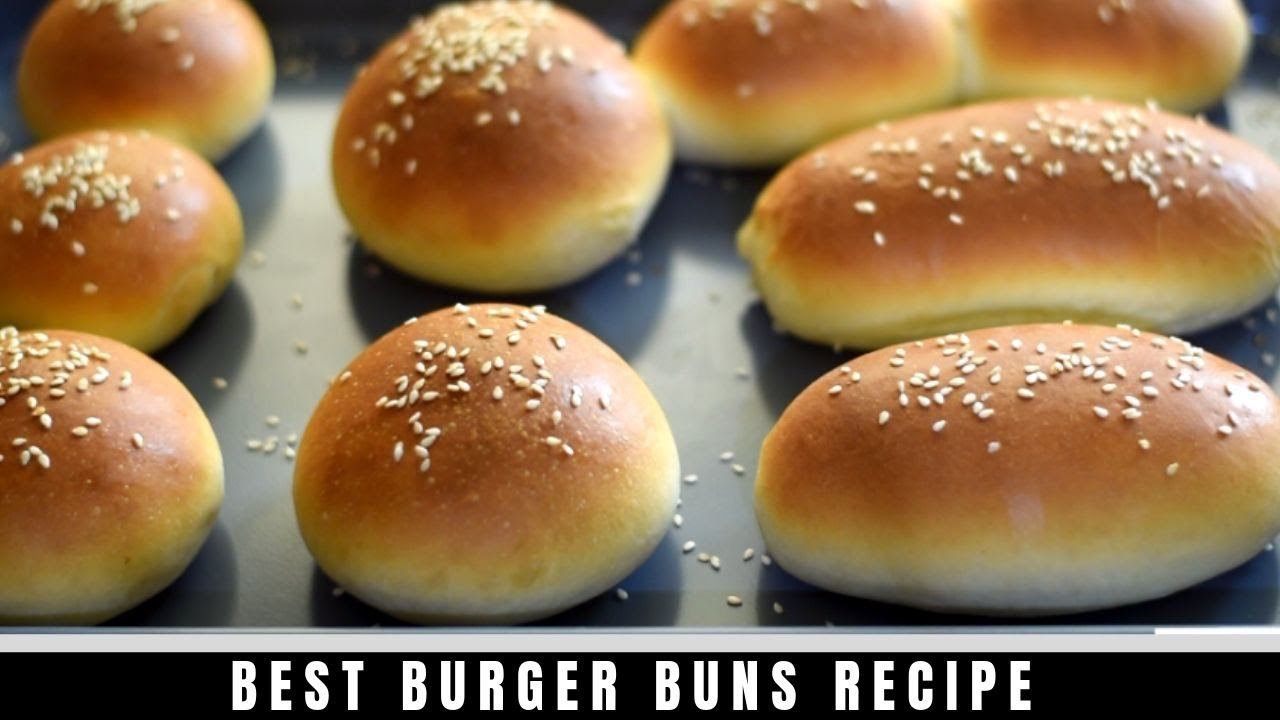hamburger_buns: (695, 325, 1280, 604), (264, 304, 713, 620), (749, 76, 1280, 341), (335, 28, 667, 284)
